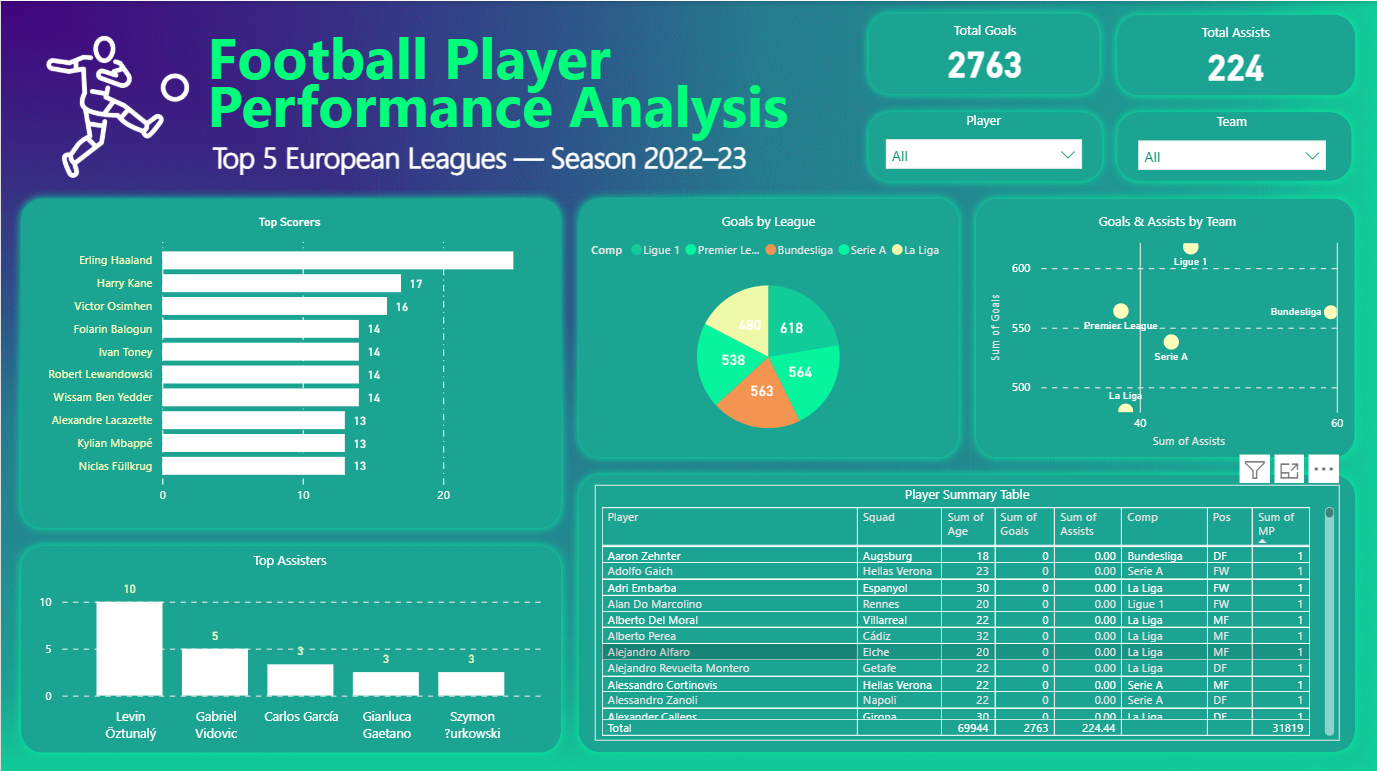

The dashboard page shown, as its layout file describes it:
{"tool":"powerbi","page":{"name":"Page 1","canvas":[1280,720],"ordinal":0},"visuals":[{"type":"shape","box":[1030,5,237.5,91.2],"z":0},{"type":"textbox","box":[187.6,11,605.1,82.3],"z":0,"group":"g2"},{"type":"textbox","box":[188,54.9,590.1,93.3],"z":1000,"group":"g2"},{"type":"shape","box":[798.8,95.3,233.7,80.2],"z":1000,"group":"g1"},{"type":"shape","box":[1030,95.7,234.3,80],"z":1000},{"type":"shape","box":[798.8,3.8,231.2,91.2],"z":2000},{"type":"shape","box":[898.6,175.7,368.6,257.1],"z":3000},{"type":"shape","box":[528.6,175.7,370,257.1],"z":4000},{"type":"shape","box":[10,498.6,518.6,208.6],"z":5000},{"type":"shape","box":[10,175.7,518.6,322.9],"z":6000},{"type":"shape","box":[528.6,432.9,738.6,274.3],"z":7000},{"type":"barChart","title":"Top Scorers","fields":{"Category":["2022-2023 Football Player Stats.Player"],"Y":["Sum(2022-2023 Football Player Stats.Goals)"]},"box":[30.2,198.8,476.7,277.9],"z":8000},{"type":"card","title":"Total Goals","fields":{"Values":["Sum(2022-2023 Football Player Stats.Goals)"]},"box":[818.8,18.8,193.8,61.2],"z":9000},{"type":"clusteredColumnChart","title":"Top Assisters","fields":{"Y":["Sum(2022-2023 Football Player Stats.Assists)"],"Category":["2022-2023 Football Player Stats.Player"]},"box":[30,511.4,477.1,185.7],"z":10000},{"type":"pieChart","title":"Goals by League","fields":{"Category":["Total Goals by Comp.Comp"],"Y":["Sum(Total Goals by Comp.Total Goals)"]},"box":[544.2,196.5,339.5,225.6],"z":11000},{"type":"slicer","title":"Team","fields":{"Values":["2022-2023 Football Player Stats.Squad"]},"box":[1047.5,103.8,195,56.2],"z":12000},{"type":"tableEx","title":"Player Summary Table","fields":{"Values":["2022-2023 Football Player Stats.Player","2022-2023 Football Player Stats.Squad","Sum(2022-2023 Football Player Stats.Age)","Sum(2022-2023 Football Player Stats.Goals)","Sum(2022-2023 Football Player Stats.Assists)","2022-2023 Football Player Stats.Comp","2022-2023 Football Player Stats.Pos","Sum(2022-2023 Football Player Stats.MP)"]},"box":[552.3,450,693,238.4],"z":13000},{"type":"scatterChart","title":"Goals & Assists by Team","fields":{"X":["Sum(2022-2023 Football Player Stats.Assists)"],"Y":["Sum(2022-2023 Football Player Stats.Goals)"],"Size":["Sum(2022-2023 Football Player Stats.Min)"],"Category":["2022-2023 Football Player Stats.Comp"]},"box":[916.2,196.2,337.5,223.8],"z":14000},{"type":"group","id":"g1","title":"Group 2","box":[798.8,95.3,233.7,80.2],"z":15000},{"type":"card","title":"Total Assists","fields":{"Values":["2022-2023 Football Player Stats.Total Assists"]},"box":[1051.2,21.2,195,61.2],"z":16000},{"type":"image","box":[28.8,23.3,159.2,150.9],"z":17000},{"type":"slicer","title":"Player","fields":{"Values":["2022-2023 Football Player Stats.Player"]},"box":[812.6,102.8,202.5,55],"z":17000,"group":"g1"},{"type":"group","id":"g2","title":"Group 1","box":[187.6,11,605.1,137.2],"z":18000},{"type":"textbox","box":[192.1,122.1,599.7,46.7],"z":19000}]}

Visuals, with their boxes in screenshot pixels (x1, y1, x2, y2), scaled from the page's 1280x720 canvas onto the 1377x771 screenshot:
shape: x1=1108, y1=5, x2=1364, y2=103
textbox: x1=202, y1=12, x2=853, y2=100
textbox: x1=202, y1=59, x2=837, y2=159
shape: x1=859, y1=102, x2=1111, y2=188
shape: x1=1108, y1=102, x2=1360, y2=188
shape: x1=859, y1=4, x2=1108, y2=102
shape: x1=967, y1=188, x2=1363, y2=463
shape: x1=569, y1=188, x2=967, y2=463
shape: x1=11, y1=534, x2=569, y2=757
shape: x1=11, y1=188, x2=569, y2=534
shape: x1=569, y1=464, x2=1363, y2=757
"Top Scorers" barChart: x1=32, y1=213, x2=545, y2=510
"Total Goals" card: x1=881, y1=20, x2=1089, y2=86
"Top Assisters" clusteredColumnChart: x1=32, y1=548, x2=546, y2=746
"Goals by League" pieChart: x1=585, y1=210, x2=951, y2=452
"Team" slicer: x1=1127, y1=111, x2=1337, y2=171
"Player Summary Table" tableEx: x1=594, y1=482, x2=1340, y2=737
"Goals & Assists by Team" scatterChart: x1=986, y1=210, x2=1349, y2=450
"Group 2" group: x1=859, y1=102, x2=1111, y2=188
"Total Assists" card: x1=1131, y1=23, x2=1341, y2=88
image: x1=31, y1=25, x2=202, y2=187
"Player" slicer: x1=874, y1=110, x2=1092, y2=169
"Group 1" group: x1=202, y1=12, x2=853, y2=159
textbox: x1=207, y1=131, x2=852, y2=181
